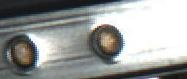joints: (86, 22, 127, 60), (3, 32, 38, 72)
